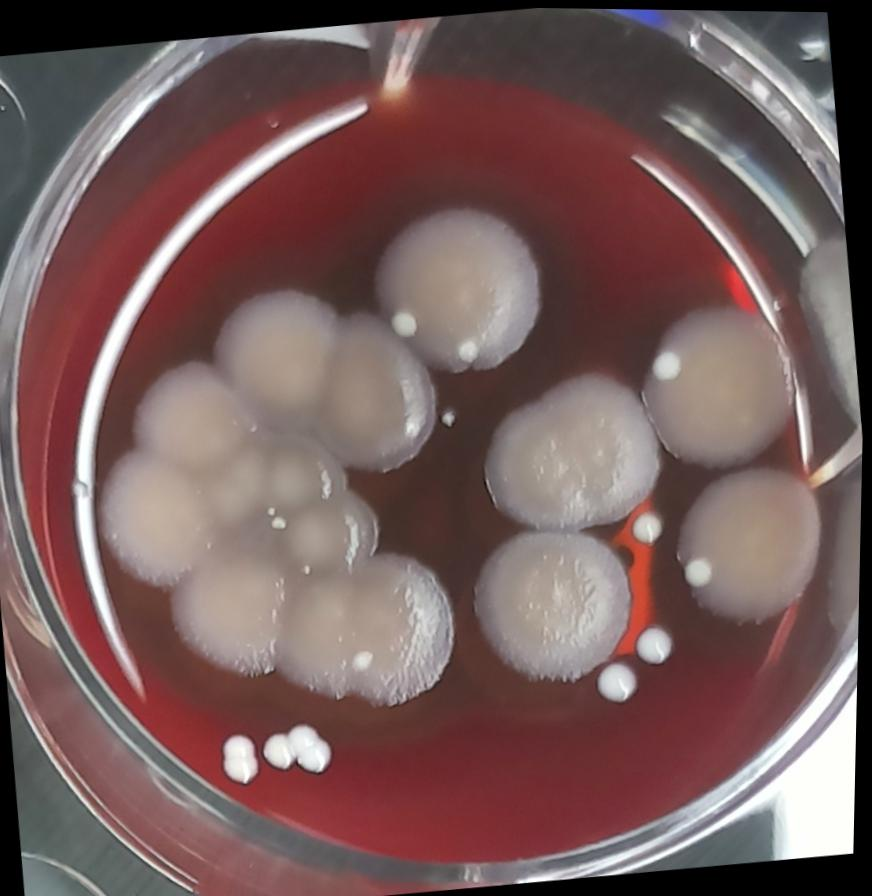staphylo-: (259, 715, 343, 779), (591, 654, 649, 705), (218, 731, 268, 788), (633, 619, 685, 666), (626, 503, 669, 546), (649, 344, 686, 383), (682, 553, 717, 588), (389, 307, 423, 338), (454, 333, 485, 366), (436, 405, 465, 433), (350, 646, 379, 674)
